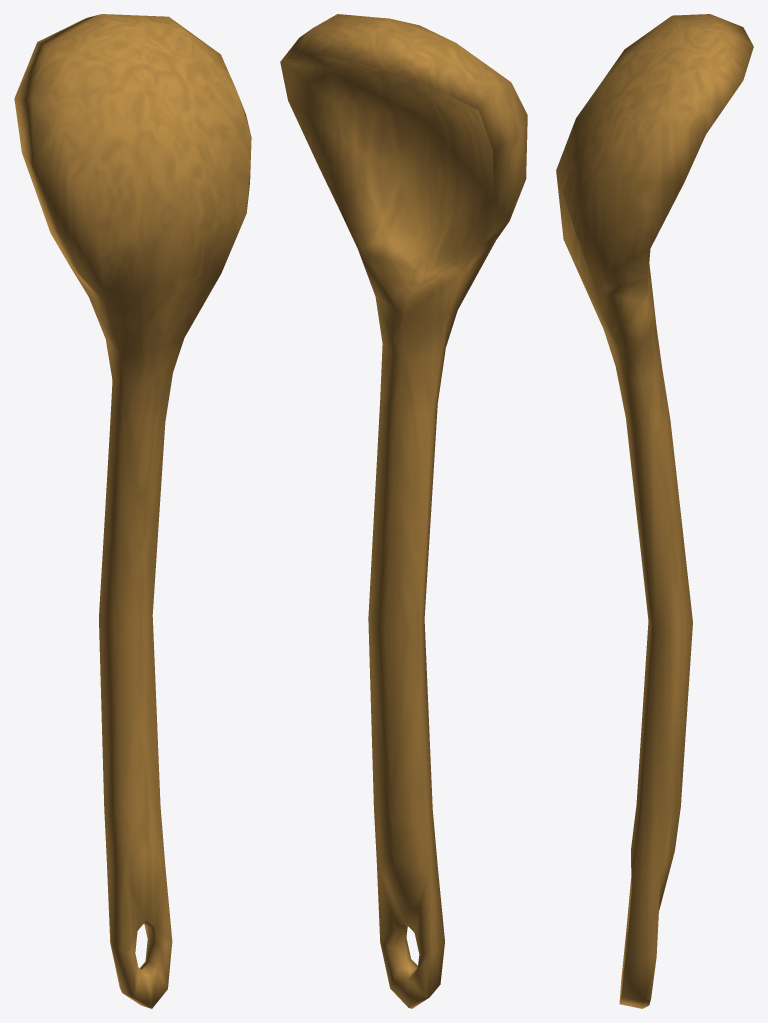
Rendered from ustensils5.glb.
3 views of the same model, side by side, from view 1: azimuth 30°, elevation 25°; view 2: azimuth 150°, elevation 25°; view 3: azimuth 270°, elevation 25° (orthographic). The views are drawn at different scales.
Parts seen in each view (by area): view 1: ustensils5; view 2: ustensils5; view 3: ustensils5.
Part boxes in pixels (x1,y1,x2,y2): ustensils5: (14,14,251,1008); ustensils5: (280,14,527,1008); ustensils5: (556,14,753,1008).
Size of the model in its own units: 0.1263 by 0.5485 by 0.1004.
Materials: 1 (1 with a texture image).
